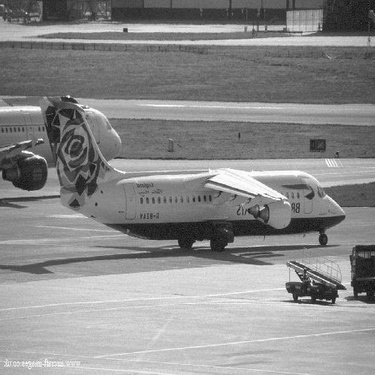car: (26, 73, 362, 263), (1, 86, 131, 203)
